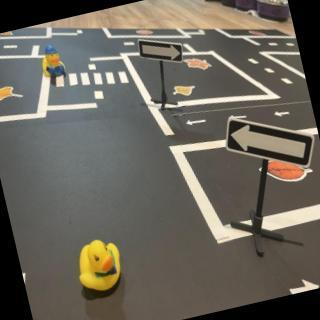duck_regular: (72, 237, 129, 300)
duck_specialty: (37, 42, 68, 81)
road_crosswalk: (52, 59, 132, 103)
sign_oneway_left: (221, 104, 320, 186)
sign_oneway_right: (134, 27, 189, 72)
